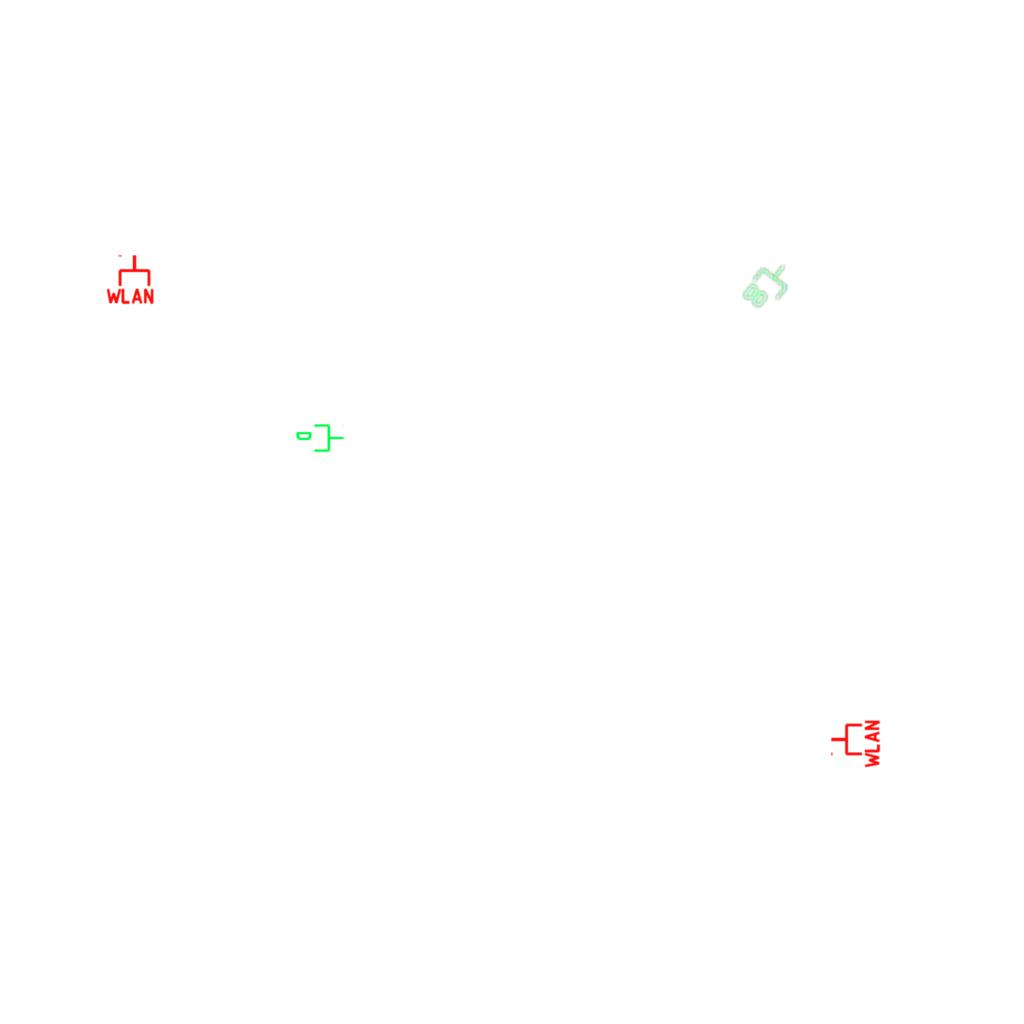Datenanschluss_einfach: (295, 422, 345, 456)
Datenanschluss_zweifach: (739, 254, 798, 316)
WLAN: (104, 253, 156, 305), (829, 718, 881, 770)
